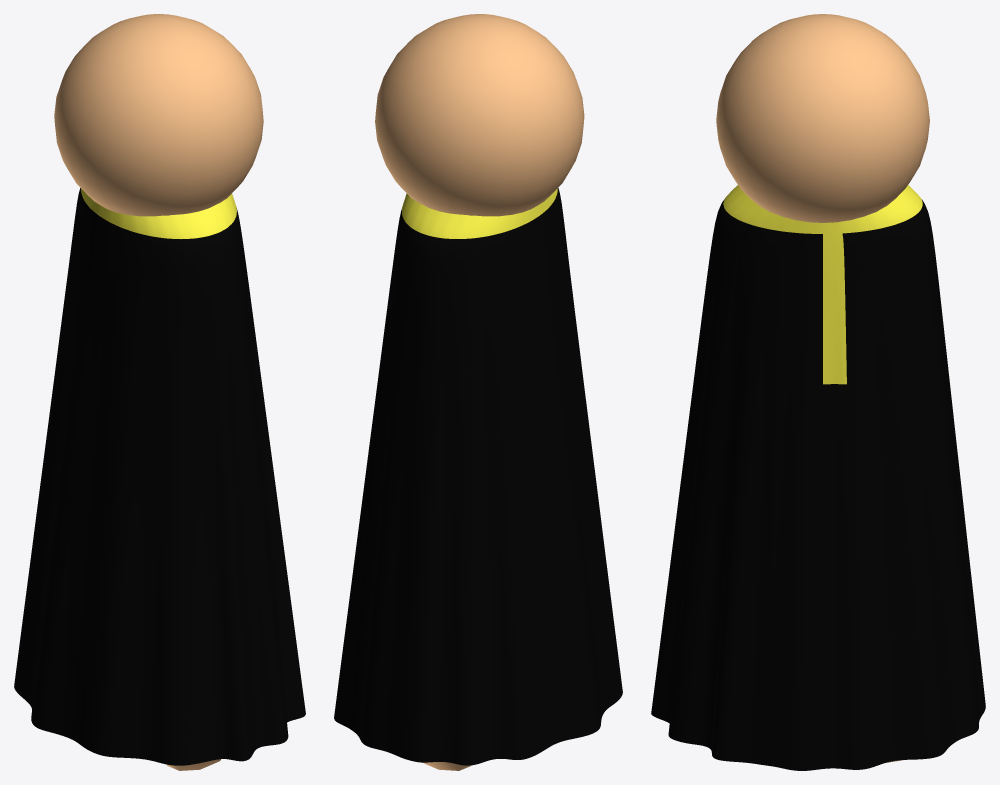
Rendered from cloths.glb.
3 views of the same model, side by side, from view 1: azimuth 30°, elevation 25°; view 2: azimuth 150°, elevation 25°; view 3: azimuth 270°, elevation 25° (orthographic).
Bounding box in the file's own units: 2.62 × 7.57 × 3.13.
